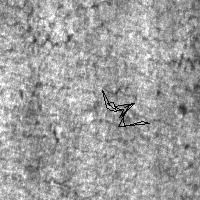crazing: (18, 80, 159, 144), (1, 1, 118, 45), (102, 90, 149, 126)
